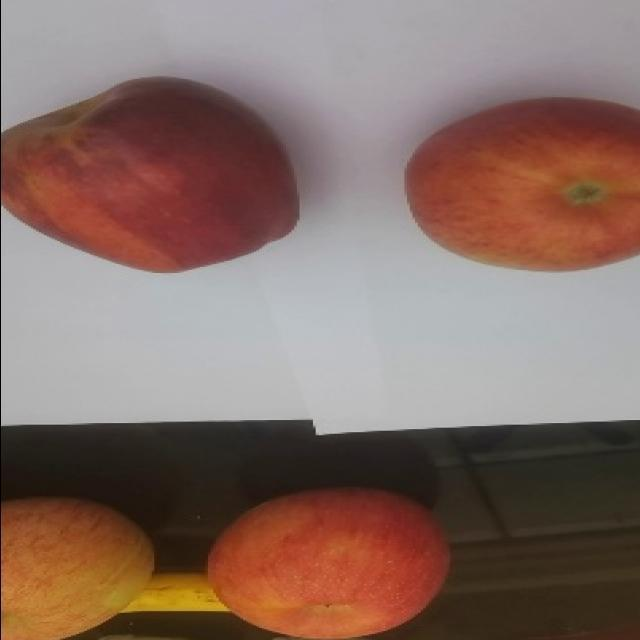Apple: (0, 77, 306, 272), (400, 98, 640, 278), (203, 486, 451, 640), (0, 494, 154, 640)
